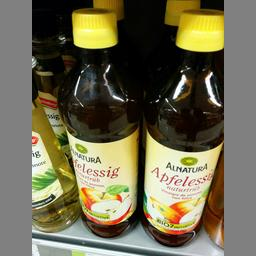vinegar: (56, 6, 142, 236), (140, 8, 222, 247)
